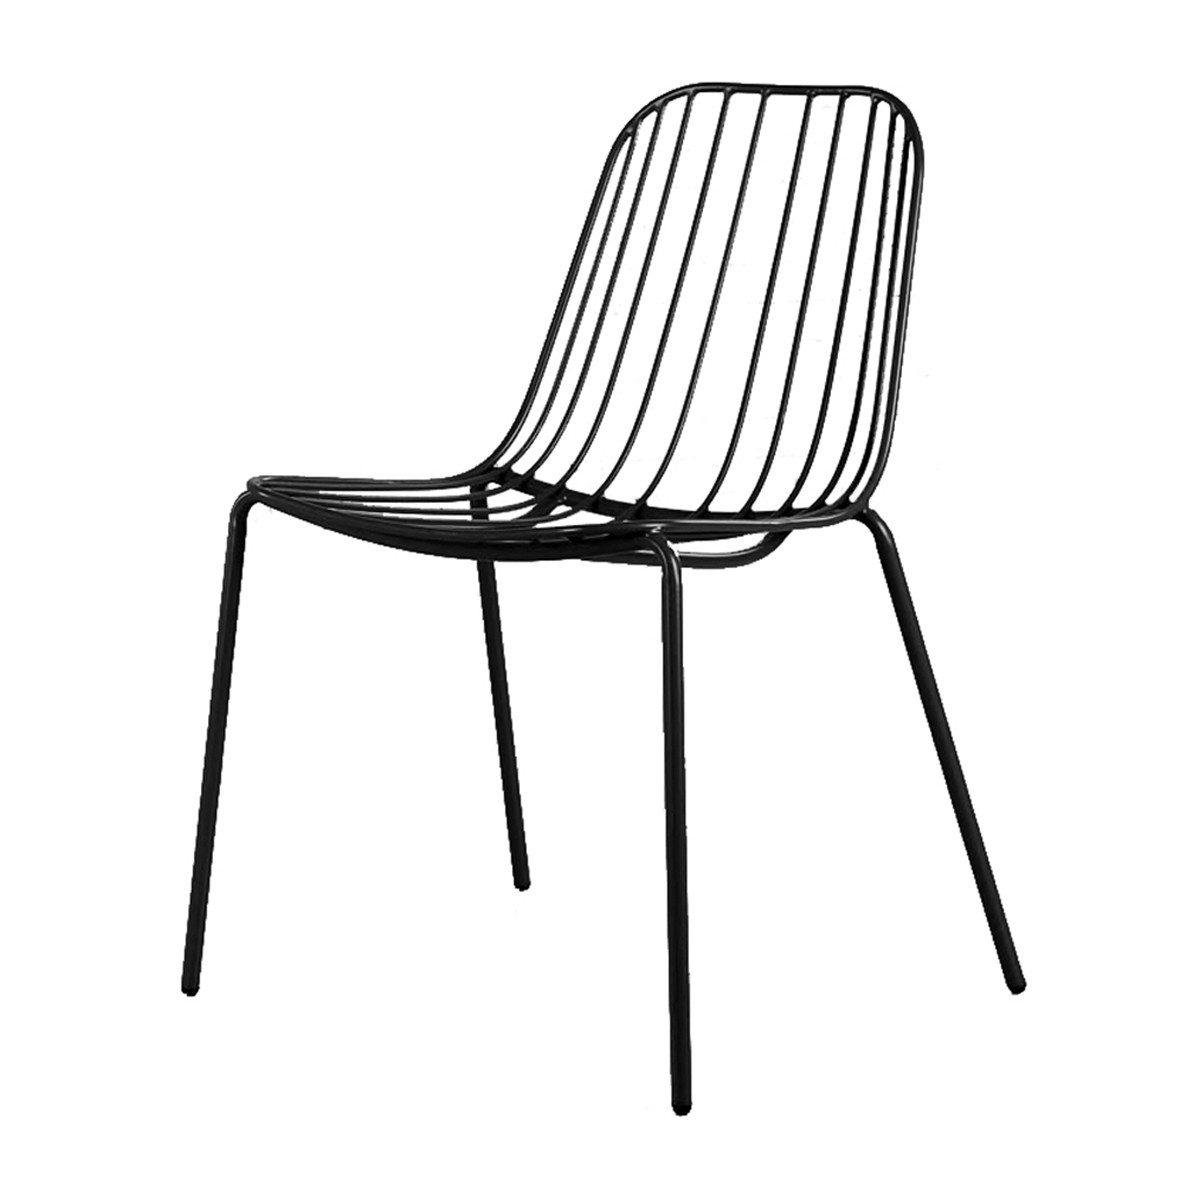chairs: (159, 76, 1042, 1134)
